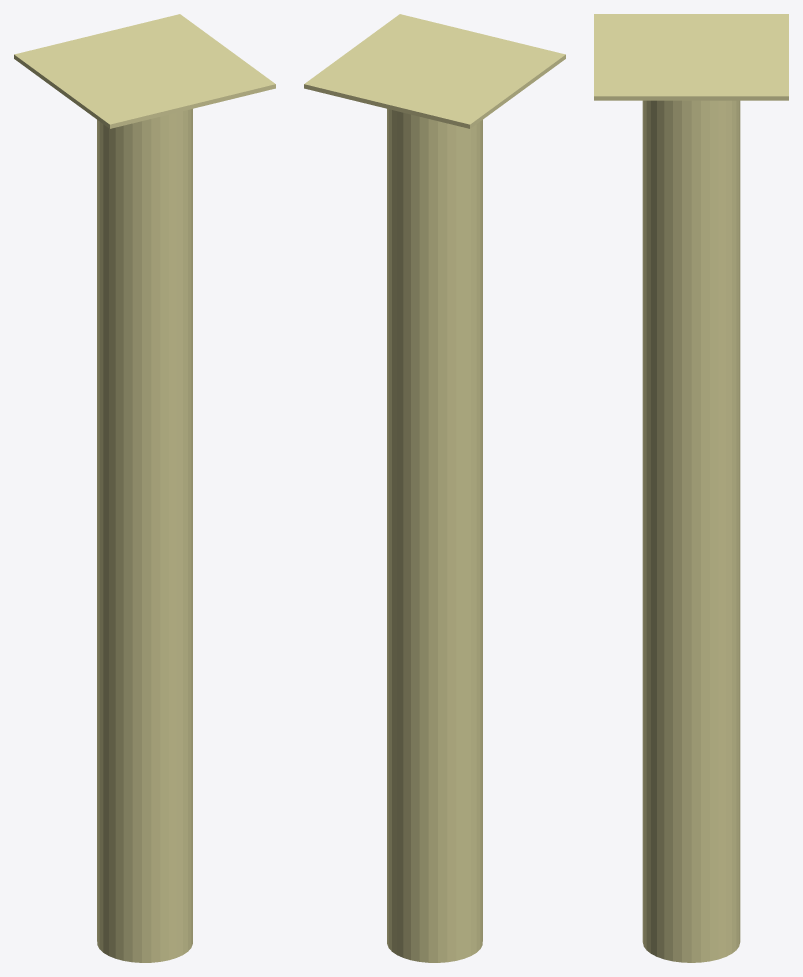
Rendered from task3_20_x_20.dae.
3 views of the same model, side by side, from view 1: azimuth 30°, elevation 25°; view 2: azimuth 150°, elevation 25°; view 3: azimuth 270°, elevation 25° (orthographic).
Parts seen in each view (by area): view 1: Cylinder; view 2: Cylinder; view 3: Cylinder.
Part boxes in pixels (<box>): Cylinder: <box>14,14,275,962</box>; Cylinder: <box>304,14,565,962</box>; Cylinder: <box>594,14,788,962</box>.
Size of the model in its own units: 0.1999 by 0.1999 by 1.
